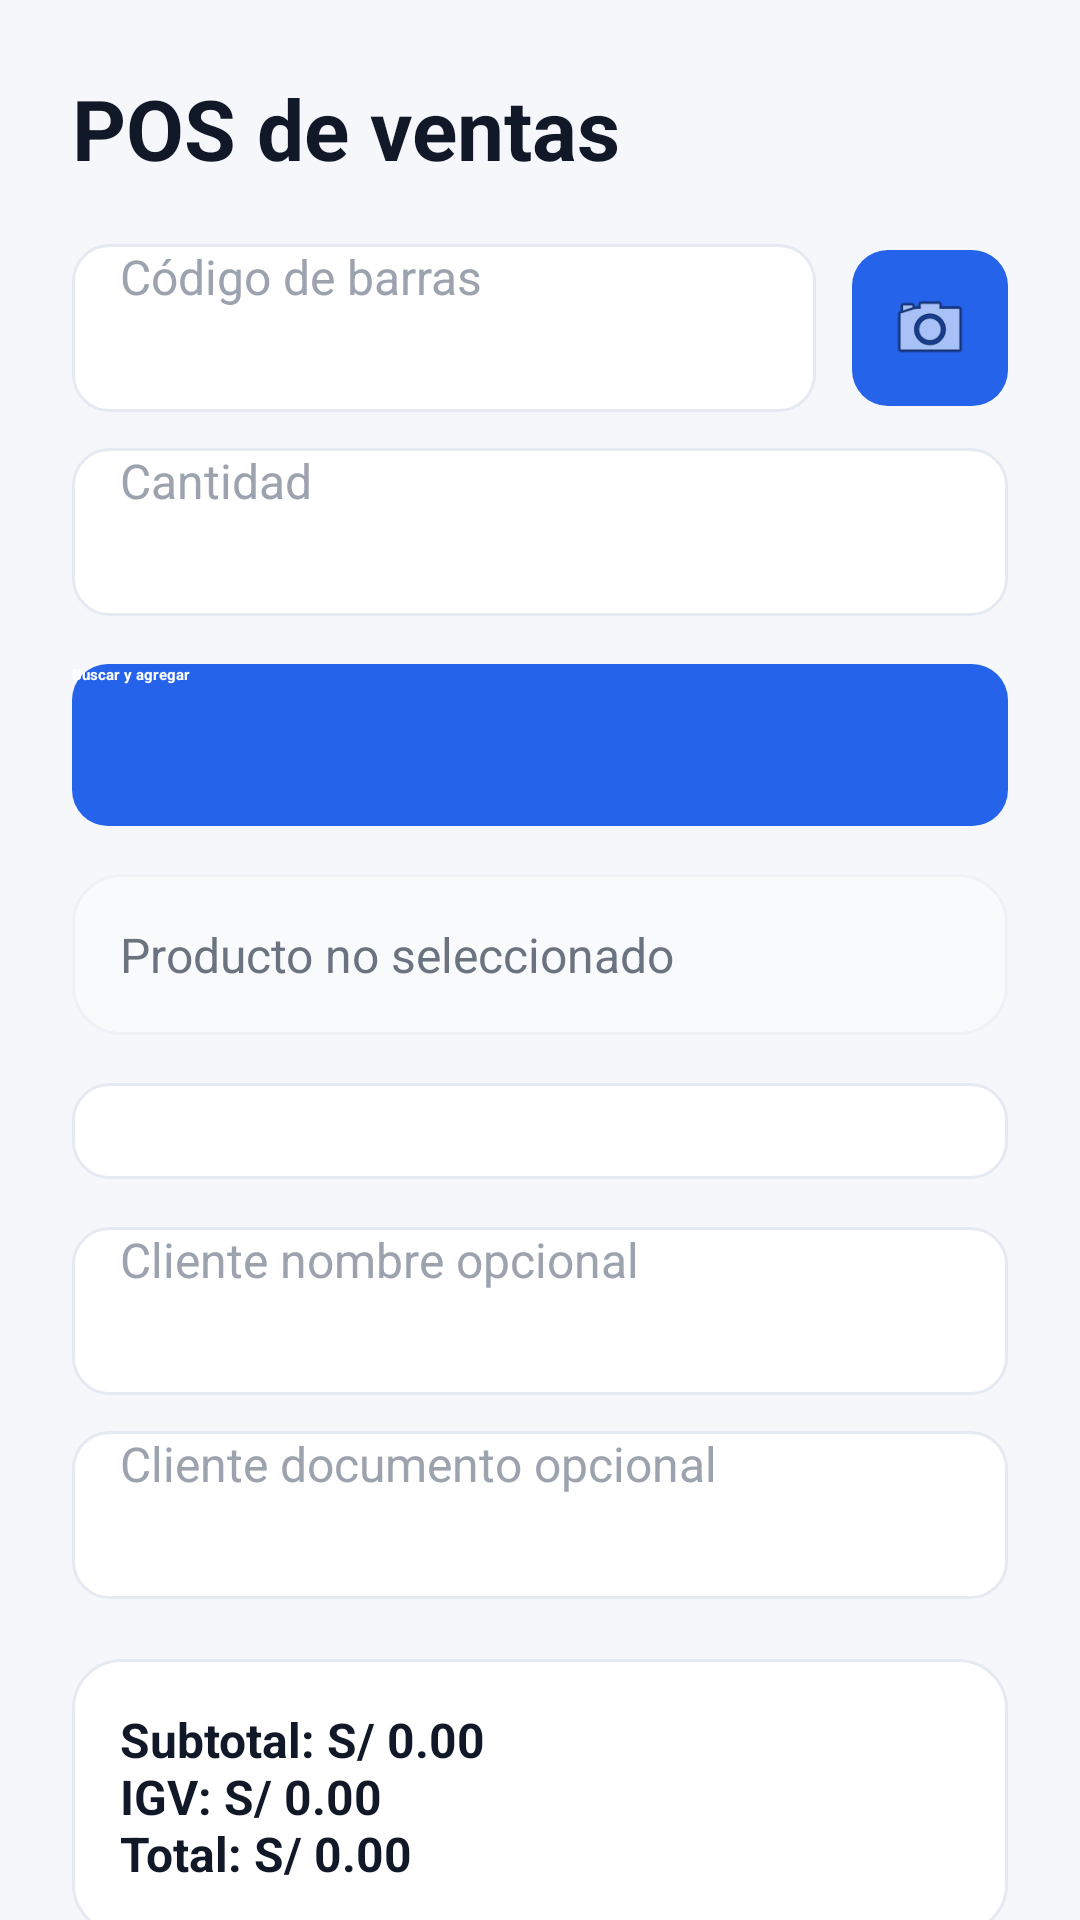

Where icons sit on this 1080px×1920px app screen, as (x1,y1,x2,y2):
Escanear: (852,250,1008,406)
